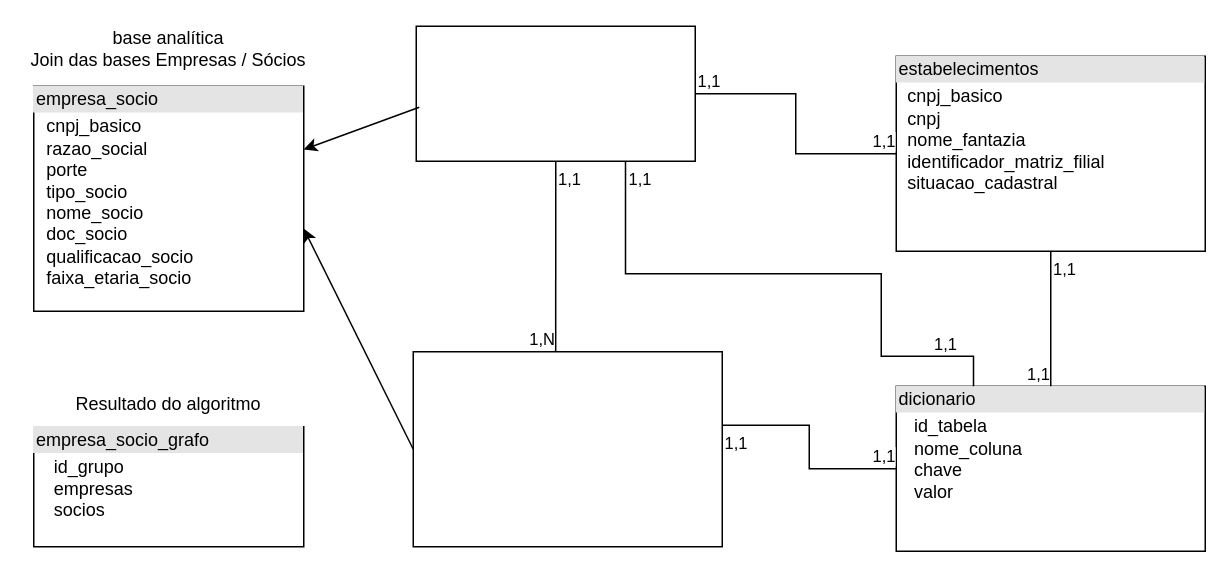
Image size: 1232x578. Some labels were removed from this diagram. The shapes that lost their labels are listed below. From the top down, each one's box as (x1, y1, x2, y2) in pixels, then its label:
(415, 25, 695, 161): empresas cnpj_basico razao_social porte
(412, 350, 722, 547): socios cnpj_basico tipo nome documento qualificacao faixa_etaria
